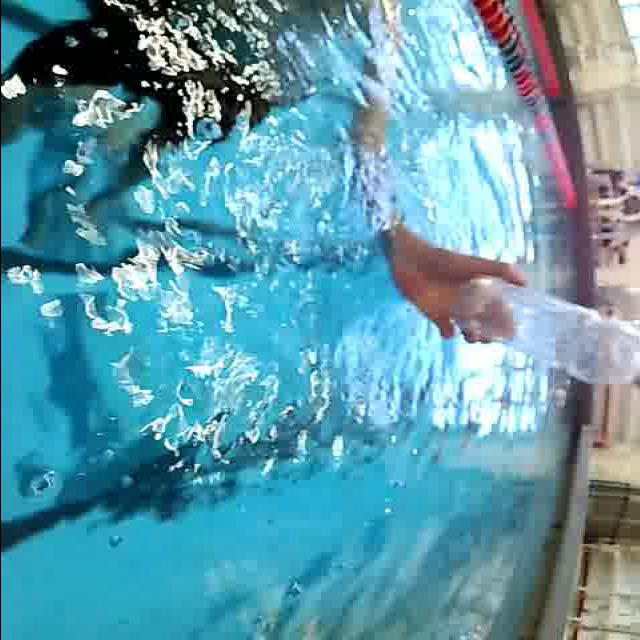Bottle: (440, 268, 640, 392)
